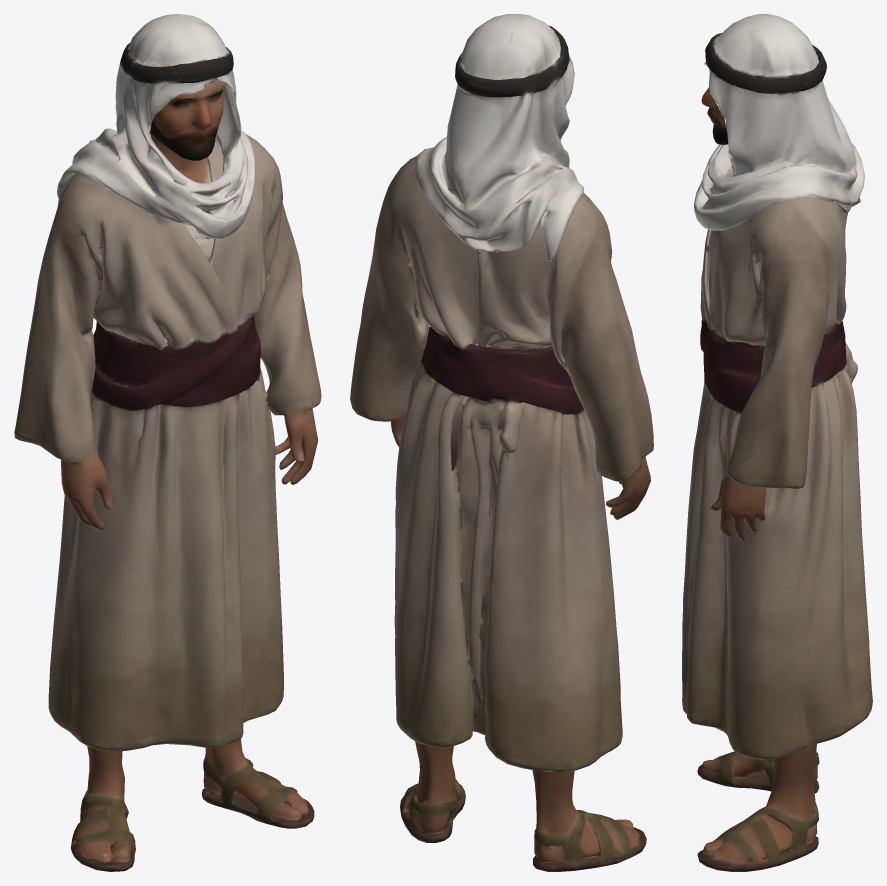
Rendered from traveler-stand.glb.
3 renders of one model, left to right at view 1: azimuth 30°, elevation 25°; view 2: azimuth 150°, elevation 25°; view 3: azimuth 270°, elevation 25°, orthographic. The views are drawn at different scales.
Visible parts, largest first — view 1: world; view 2: world; view 3: world.
Part boxes in pixels (left/top/right/bottom): world: left=14, top=14, right=321, bottom=871; world: left=350, top=14, right=653, bottom=871; world: left=682, top=14, right=872, bottom=871.
Bounding box in the file's own units: 0.3758 × 1 × 0.2173.
Materials: 1 (1 with a texture image).
